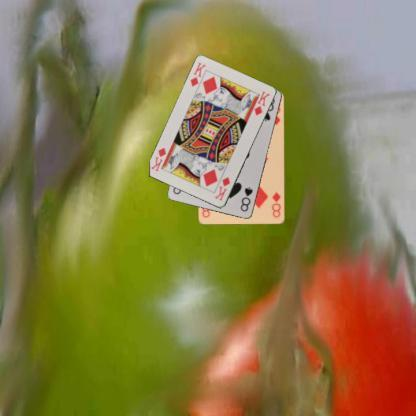8d: (269, 189, 282, 219)
8s: (238, 185, 254, 213)
Kd: (187, 60, 208, 88), (212, 174, 232, 202)
